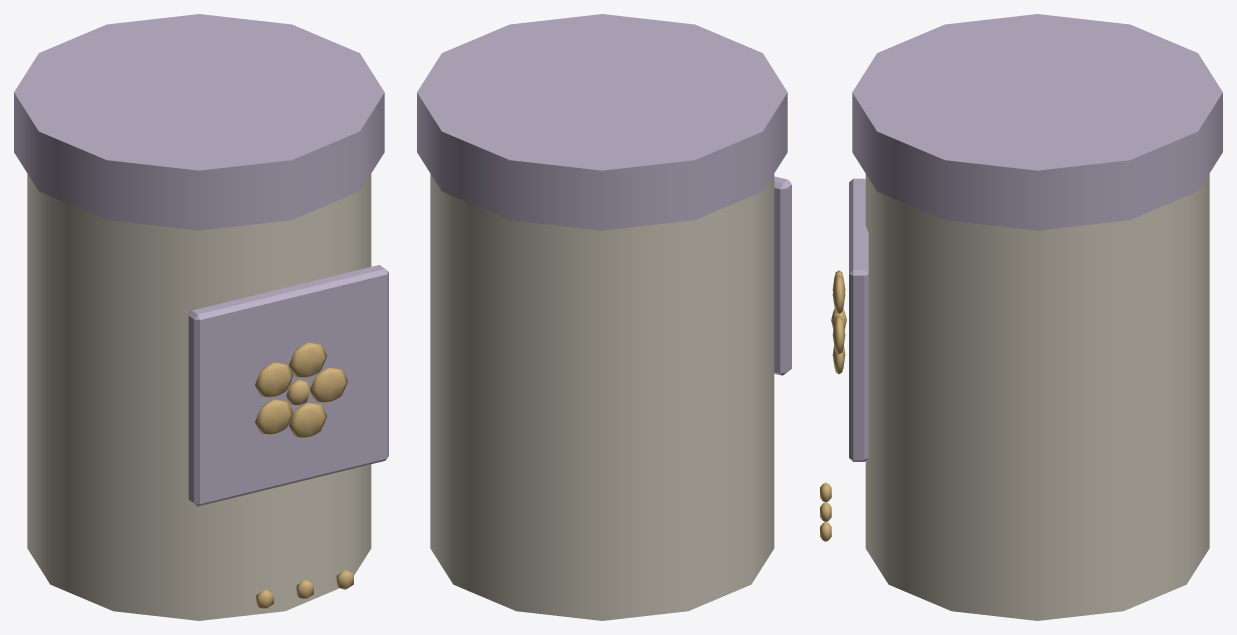
The picture shows the model from 3 angles, left to right: view 1: azimuth 30°, elevation 25°; view 2: azimuth 150°, elevation 25°; view 3: azimuth 270°, elevation 25°; orthographic projection.
Visible parts, largest first — view 1: g_s23; view 2: g_s23; view 3: g_s23.
Boxes of the visible parts, bbox=[...] form: g_s23: bbox=[14, 14, 388, 620]; g_s23: bbox=[417, 14, 791, 620]; g_s23: bbox=[820, 14, 1222, 620].
Bounding box in the file's own units: 0.28 × 0.38 × 0.3043.
